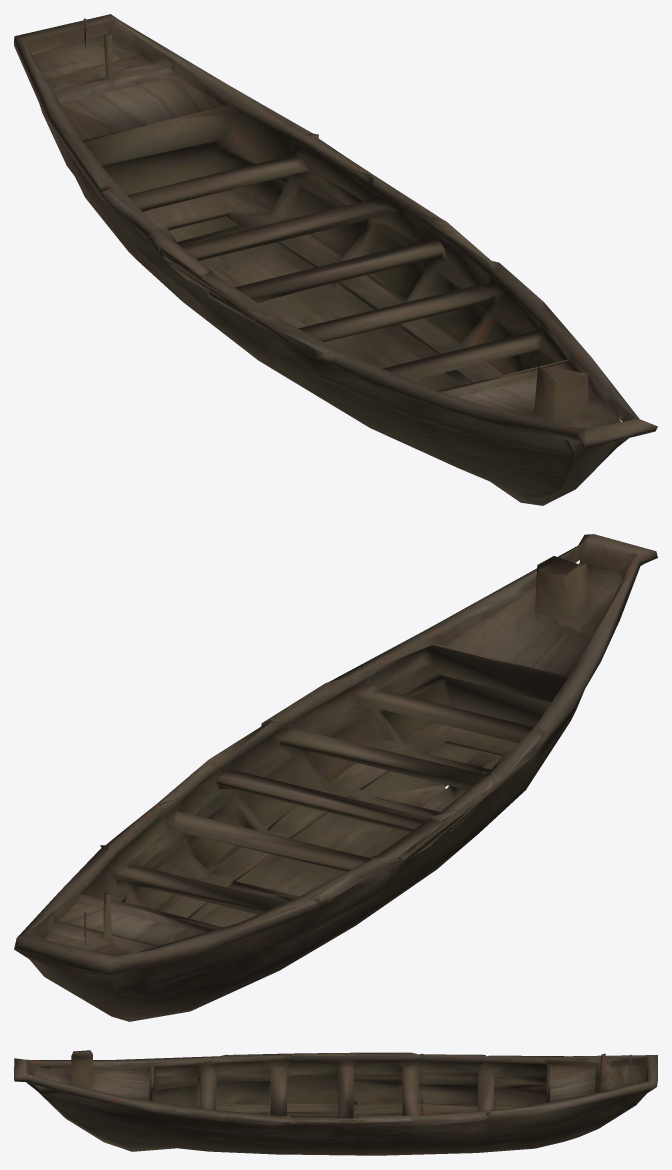
File: thuyen-dan.glb
3 renders of one model, top to bottom at view 1: azimuth 30°, elevation 25°; view 2: azimuth 150°, elevation 25°; view 3: azimuth 270°, elevation 25°, orthographic. The views are drawn at different scales.
Parts seen in each view (by area): view 1: Thuyen_Dan_WEB; view 2: Thuyen_Dan_WEB; view 3: Thuyen_Dan_WEB.
Part boxes in pixels (<box>): Thuyen_Dan_WEB: <box>14,14,657,505</box>; Thuyen_Dan_WEB: <box>14,534,657,1021</box>; Thuyen_Dan_WEB: <box>14,1050,657,1155</box>.
Bounding box in the file's own units: 1.6 × 1.06 × 6.4.
Materials: 1 (1 with a texture image).
